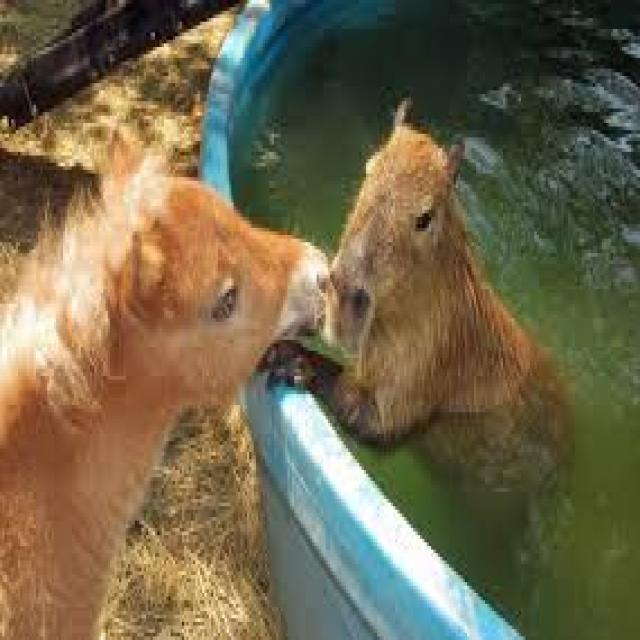capy: (327, 99, 568, 486)
